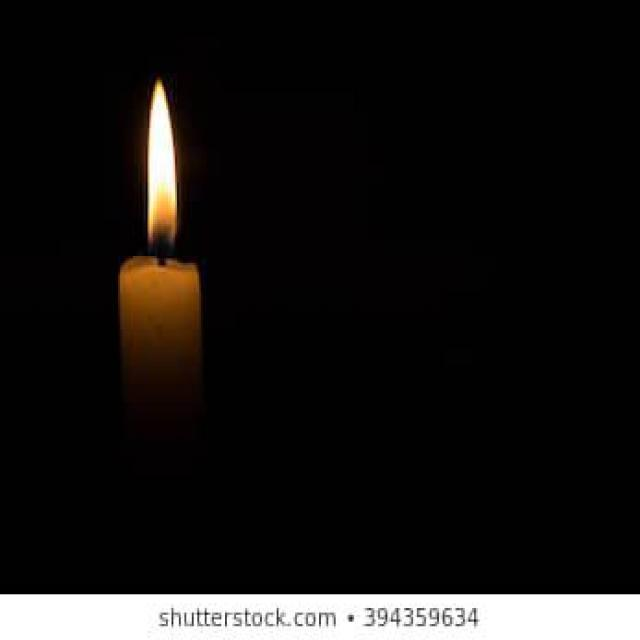Fire: (146, 81, 176, 250)
